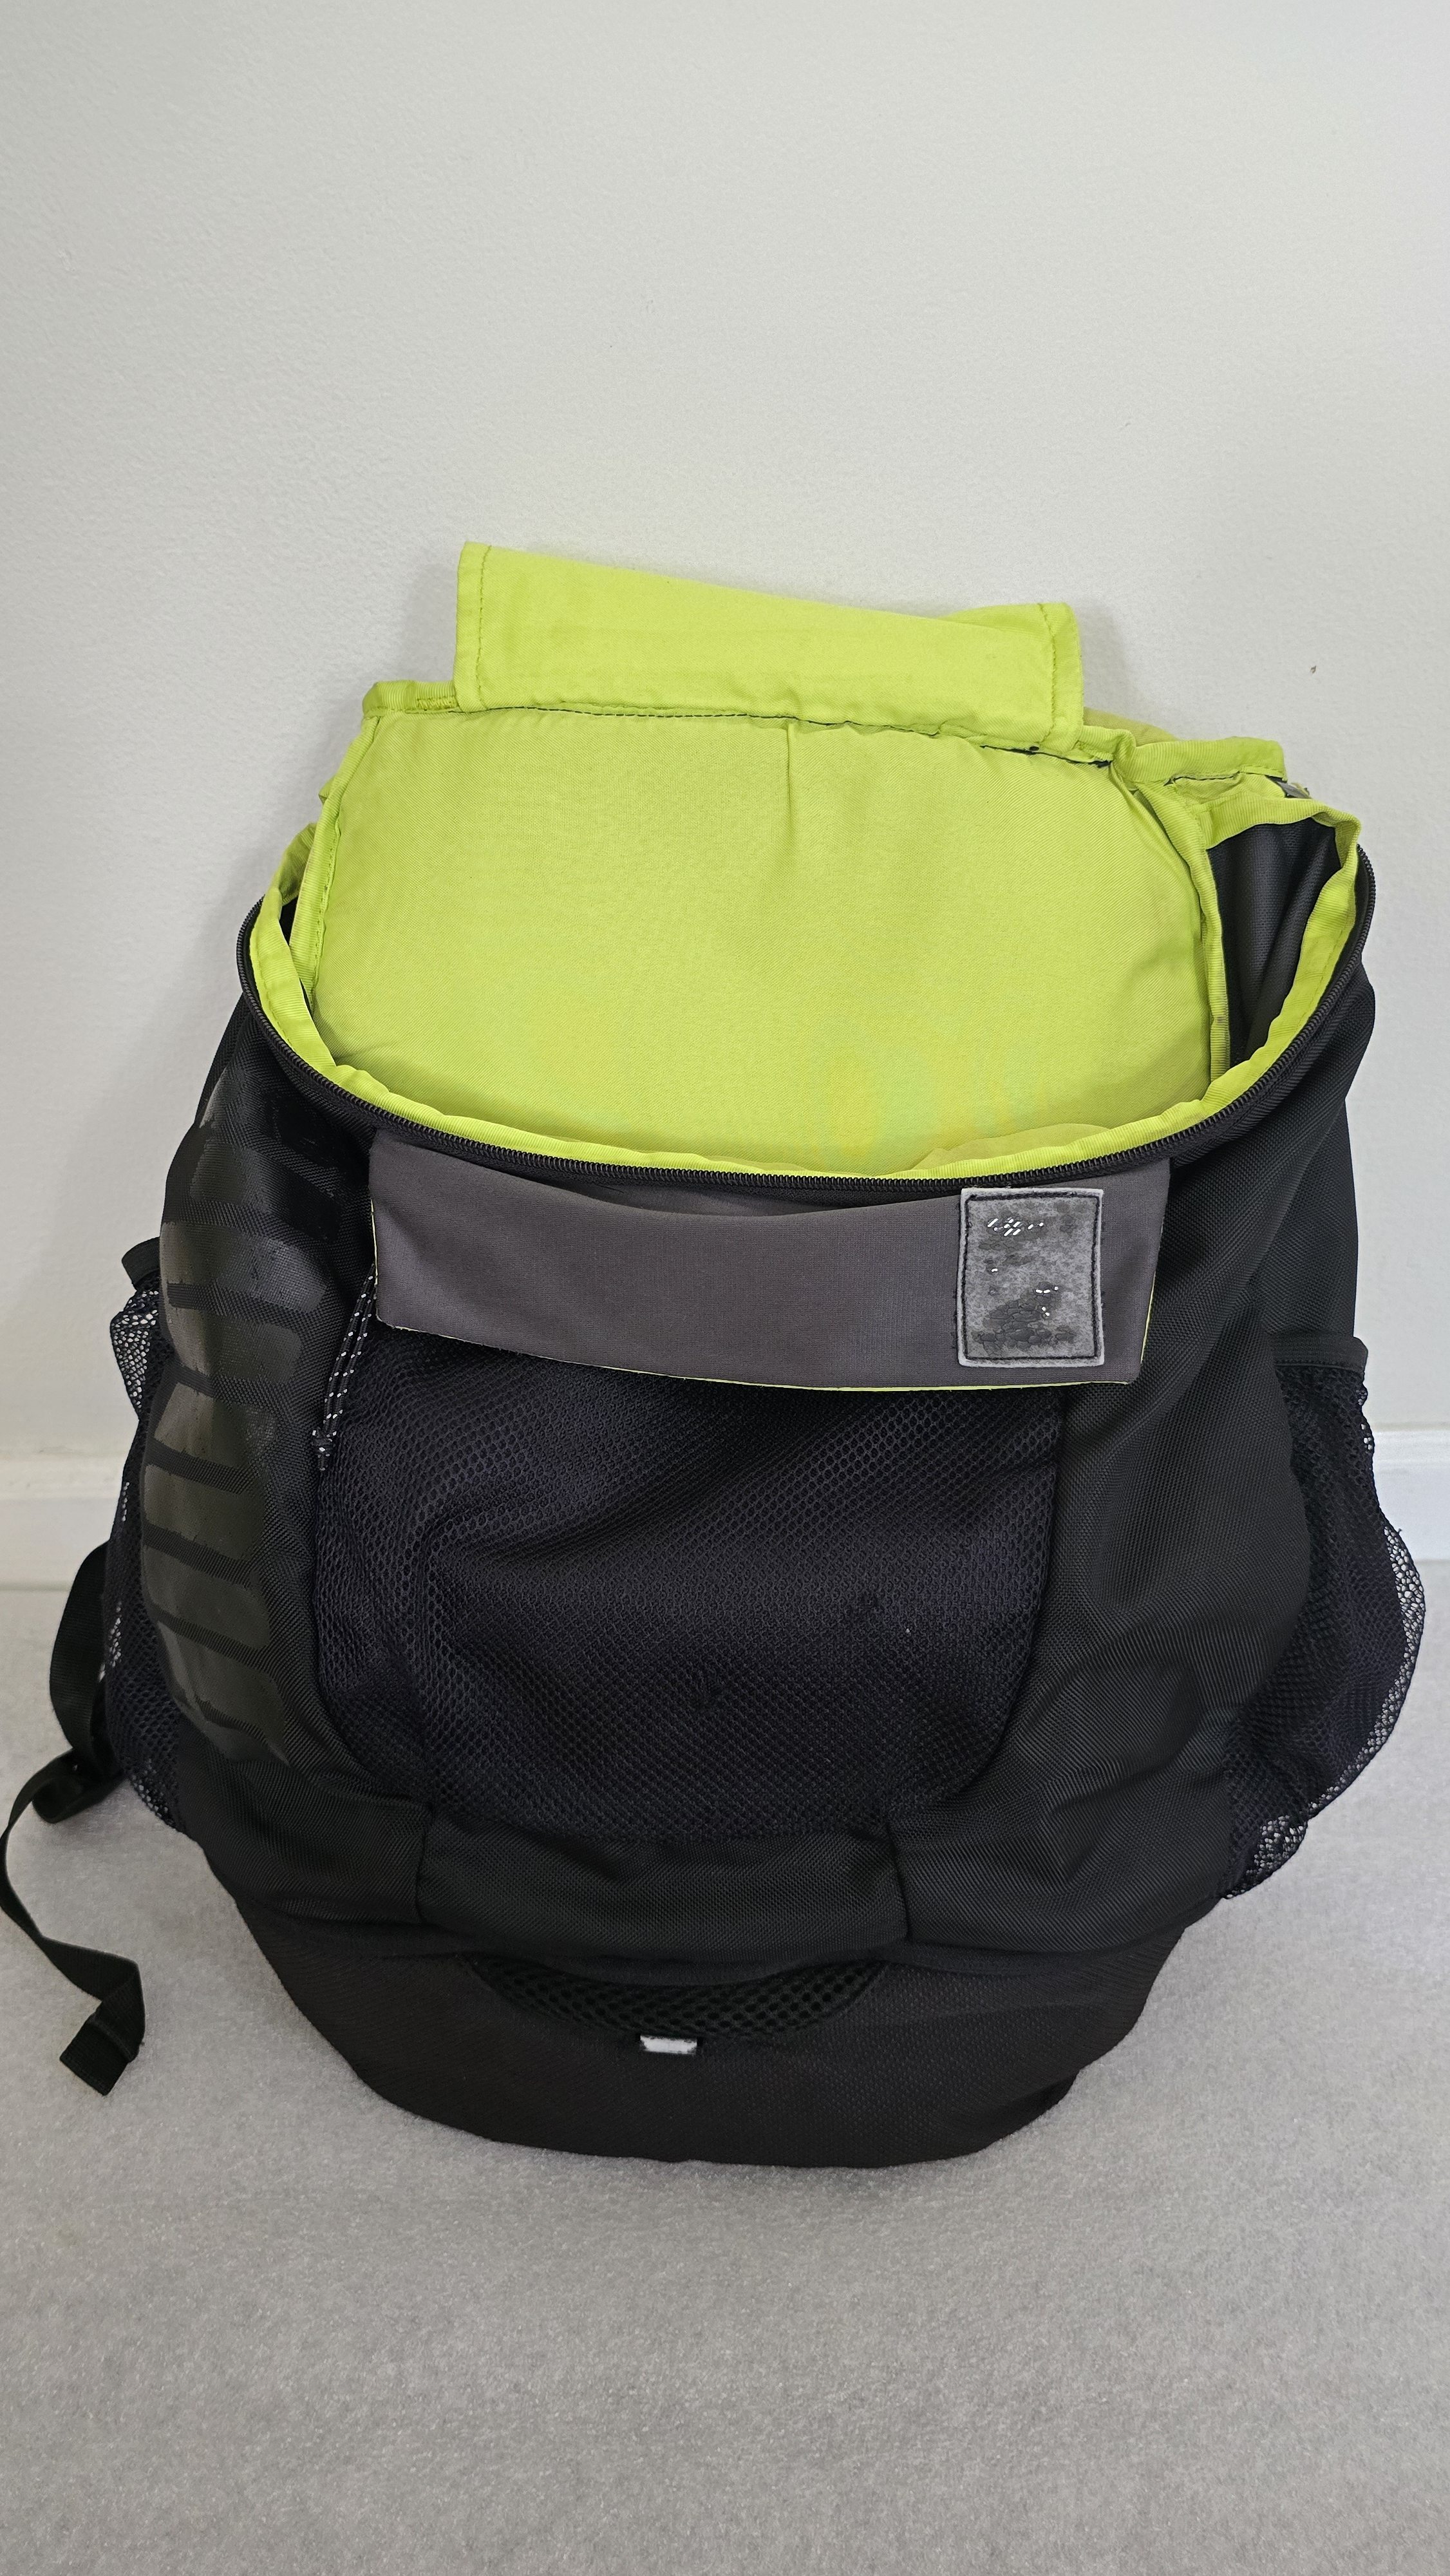bag: (197, 502, 1447, 2149)
